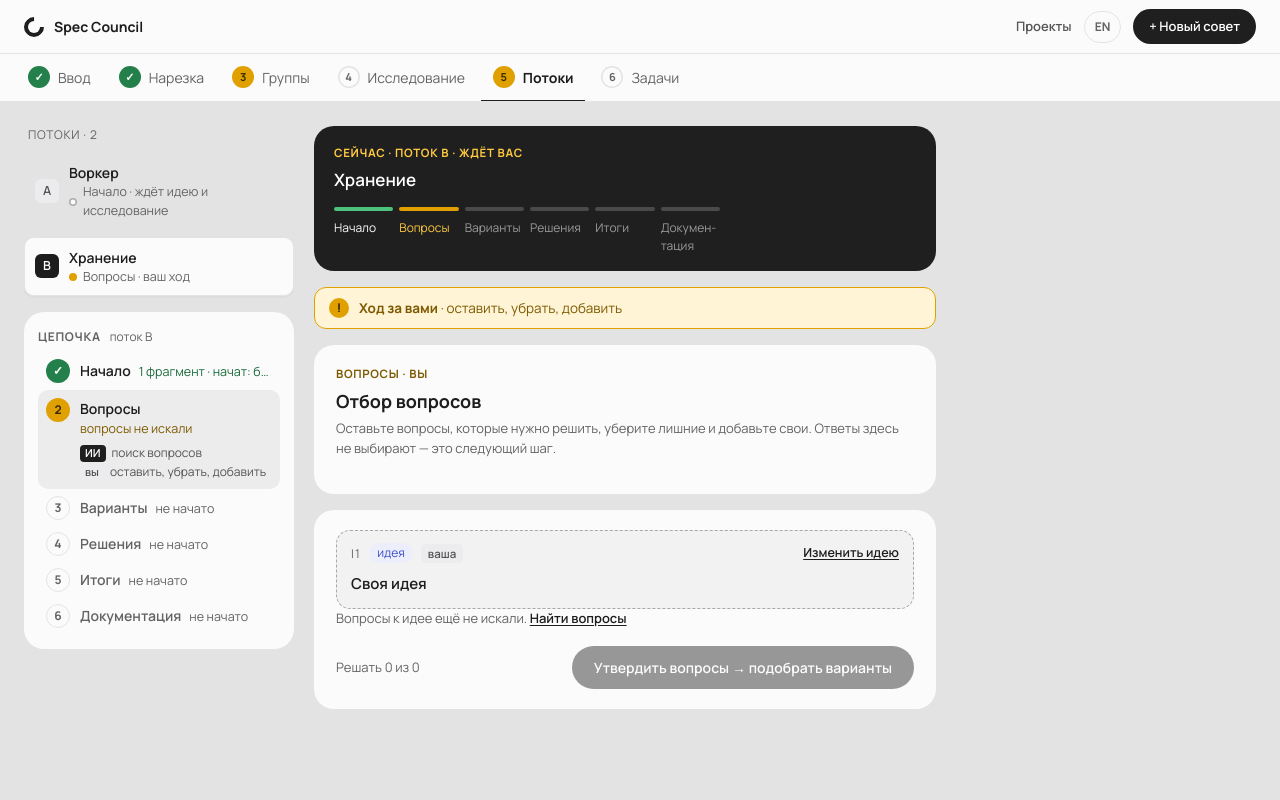
Группы: идеи › своя идея после упавшего поиска: поток начат, повтора поиска больше нет
Check: the heading "Отбор вопросов" is shown, box x1=336 y1=389 x2=481 y2=413
Check: the text "Вопросы к идее ещё не искали." is shown, box x1=336 y1=609 x2=527 y2=627
Click the button "Изменить идею" at (851, 553), box x1=803 y1=544 x2=899 y2=563
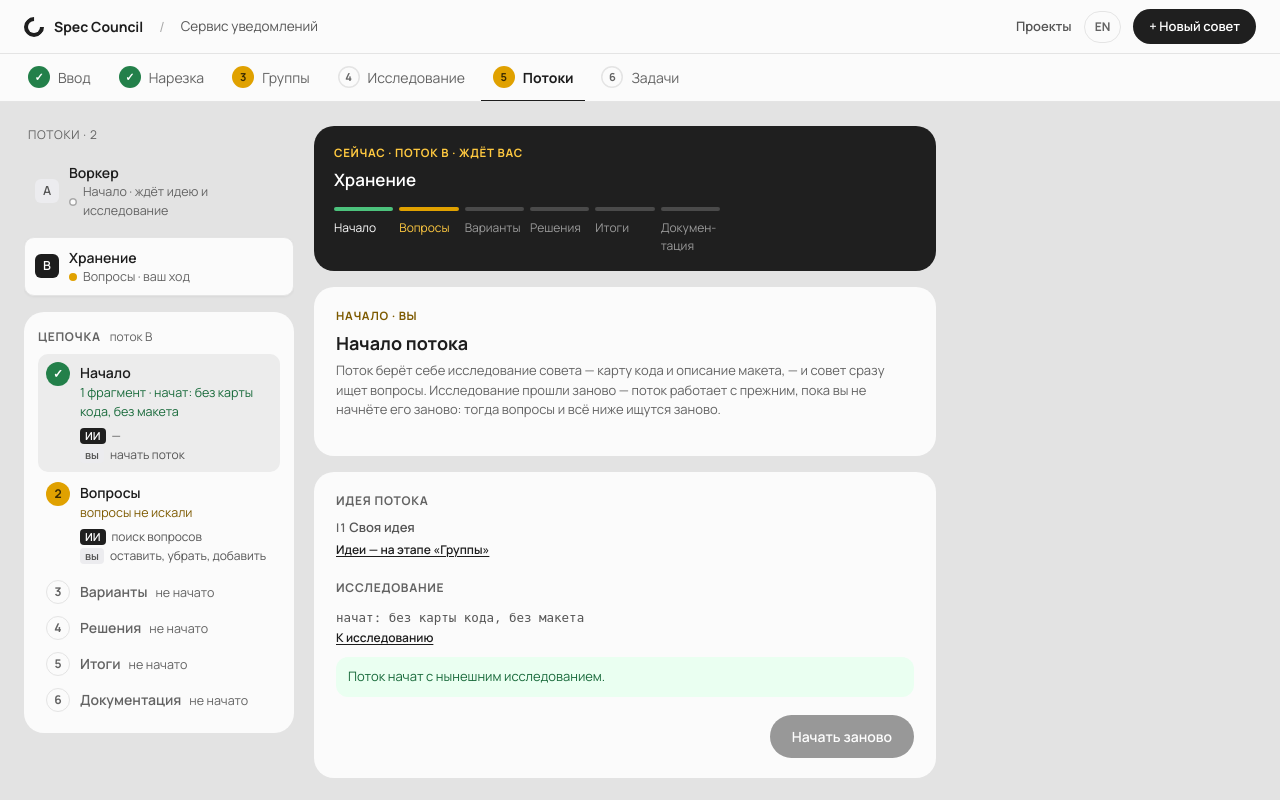
Check: the heading "Начало потока" is shown, box x1=336 y1=331 x2=468 y2=355
Check: the message "! Ход за вами · оставить, убрать, добавить" is gone
